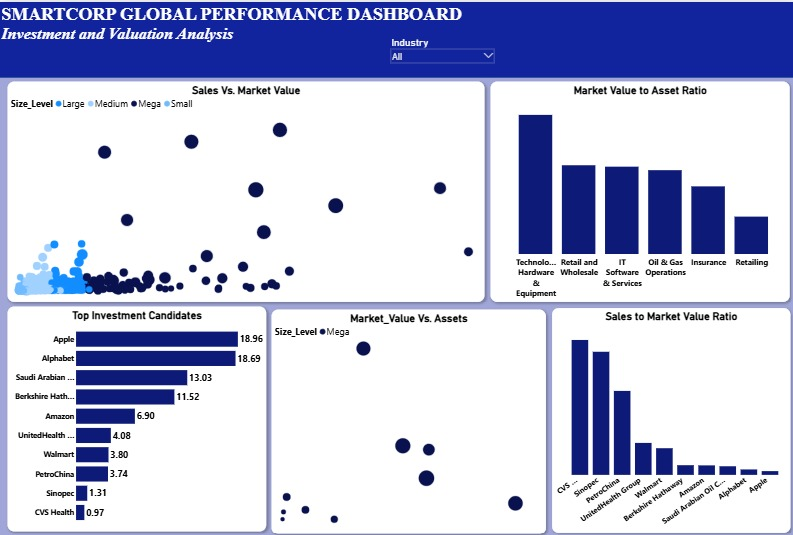

This screenshot's page, from the dashboard's own definition file:
{"tool":"powerbi","page":{"name":"Investment & Valuation Analysis","canvas":[3550,2400],"ordinal":3},"visuals":[{"type":"scatterChart","title":"Market_Value Vs. Assets","fields":{"X":["Forbes Companies.Market Value_$B"],"Y":["Sum(Forbes Companies.Assets_$B)"],"Series":["Forbes Companies.Size_Level"],"Size":["Sum(Forbes Companies.Profit_$B)"]},"box":[1205,1365,1220,1000],"z":0},{"type":"shape","box":[-2,0,3552,336],"z":1000},{"type":"slicer","fields":{"Values":["Sheet11.Performance_Status"]},"box":[2208,144,480,192],"z":2000},{"type":"slicer","fields":{"Values":["Sheet11.Country_Region"]},"box":[2688,144,432,192],"z":3000},{"type":"slicer","fields":{"Values":["Sheet11.Valuation_Scale"]},"box":[3118,144,432,192],"z":4000},{"type":"textbox","box":[0,0,3553.3,333.3],"z":5000},{"type":"scatterChart","title":"Sales Vs. Market Value ","fields":{"Y":["Sheet11.Market Value_$B"],"Size":["Sum(Sheet11.Profit_$B)"],"Series":["Forbes Companies.Size_Level"],"X":["Sum(Forbes Companies.Sales_$B)"]},"box":[30,350,2120,980],"z":6000},{"type":"barChart","title":"Top Investment Candidates","fields":{"Category":["Sheet11.Company"],"Y":["Sum(Sheet11.Investment_Score)"]},"box":[30,1355,1150,1000],"z":7000},{"type":"columnChart","title":"Market Value  to Asset Ratio","fields":{"Category":["Sheet11.Industry"],"Y":["Sum(Sheet11.Market Value_$B)"]},"box":[2180,350,1330,980],"z":8000},{"type":"columnChart","title":"Sales to Market Value Ratio","fields":{"Category":["Sheet11.Company"],"Y":["Sum(Sheet11.Sales_to_MarketValue_Ratio)"]},"box":[2450,1360,1060,1000],"z":9000},{"type":"slicer","fields":{"Values":["Sheet11.Industry"]},"box":[1728,144,480,192],"z":10000}]}

Visuals, with their boxes in screenshot pixels (x1, y1, x2, y2), scaled from the page's 3550x2400 canvas onto the 793x535 screenshot:
"Market_Value Vs. Assets" scatterChart: Rect(269, 304, 542, 527)
shape: Rect(0, 0, 792, 75)
slicer - Sheet11.Performance_Status: Rect(493, 32, 600, 75)
slicer - Sheet11.Country_Region: Rect(600, 32, 697, 75)
slicer - Sheet11.Valuation_Scale: Rect(696, 32, 792, 75)
textbox: Rect(0, 0, 792, 74)
"Sales Vs. Market Value " scatterChart: Rect(7, 78, 480, 296)
"Top Investment Candidates" barChart: Rect(7, 302, 264, 525)
"Market Value  to Asset Ratio" columnChart: Rect(487, 78, 784, 296)
"Sales to Market Value Ratio" columnChart: Rect(547, 303, 784, 526)
slicer - Sheet11.Industry: Rect(386, 32, 493, 75)
